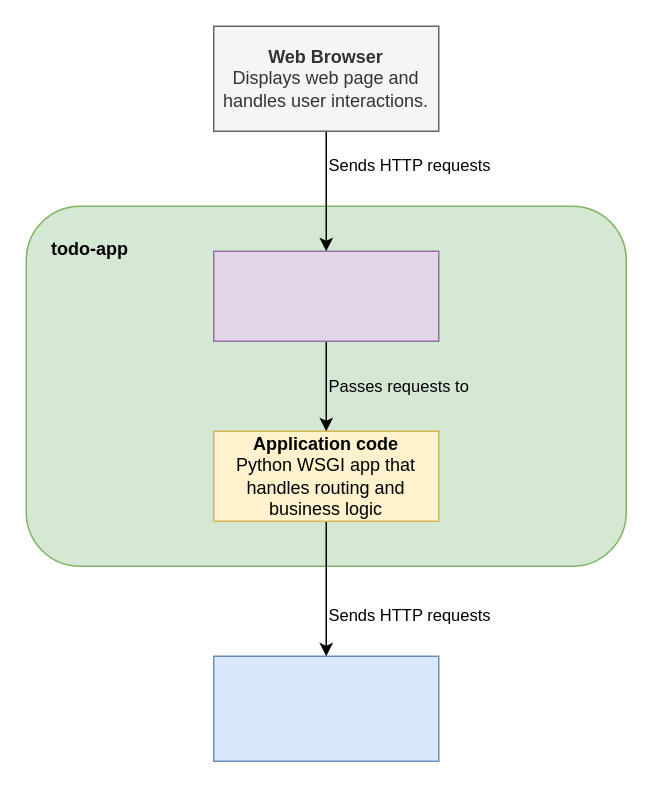
The diagram is 653 pixels wide and 788 high, and some of its shapes have lost their labels. The shapes that lost their labels are listed below. From the top down, each one's centre as x and y in pixels, then its label:
At pixel 325 295: "Flask Server Sends requests to the Python application.".
At pixel 325 708: "Trello Stores tasks and their states.".
